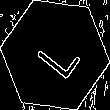L_NW: (28, 27, 82, 83)
